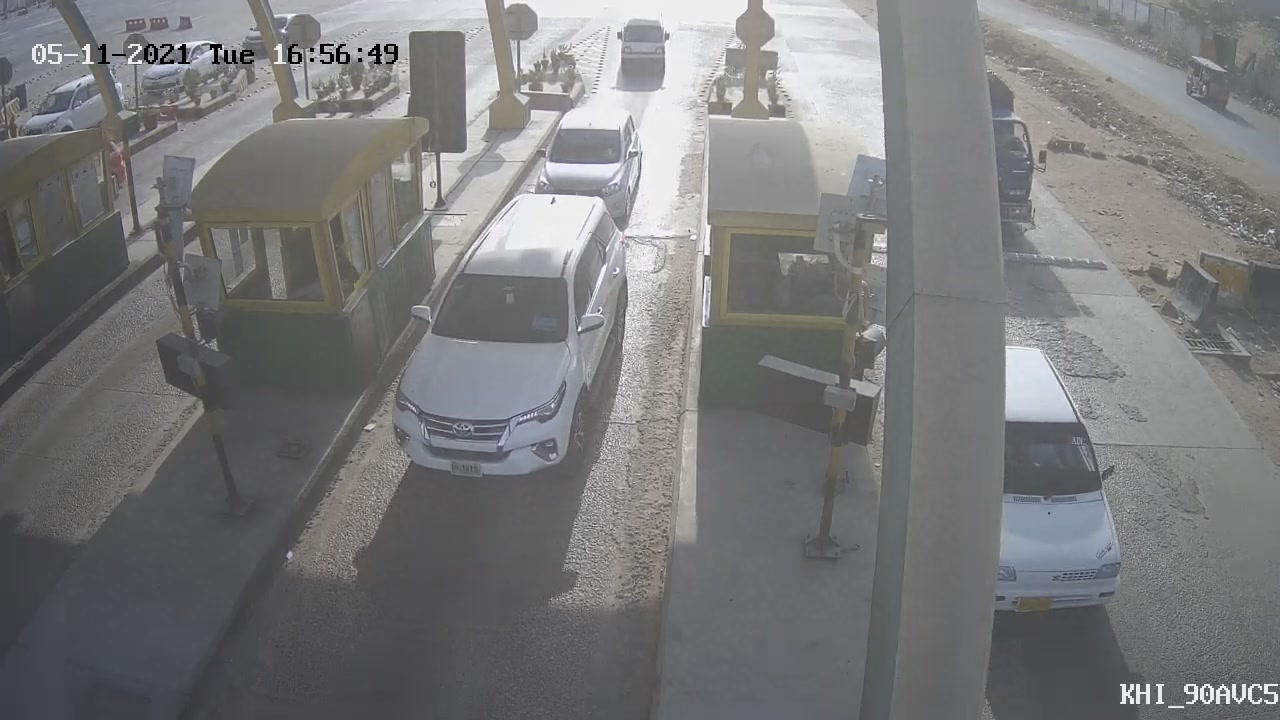F1: (377, 172, 644, 499), (512, 92, 663, 239)
